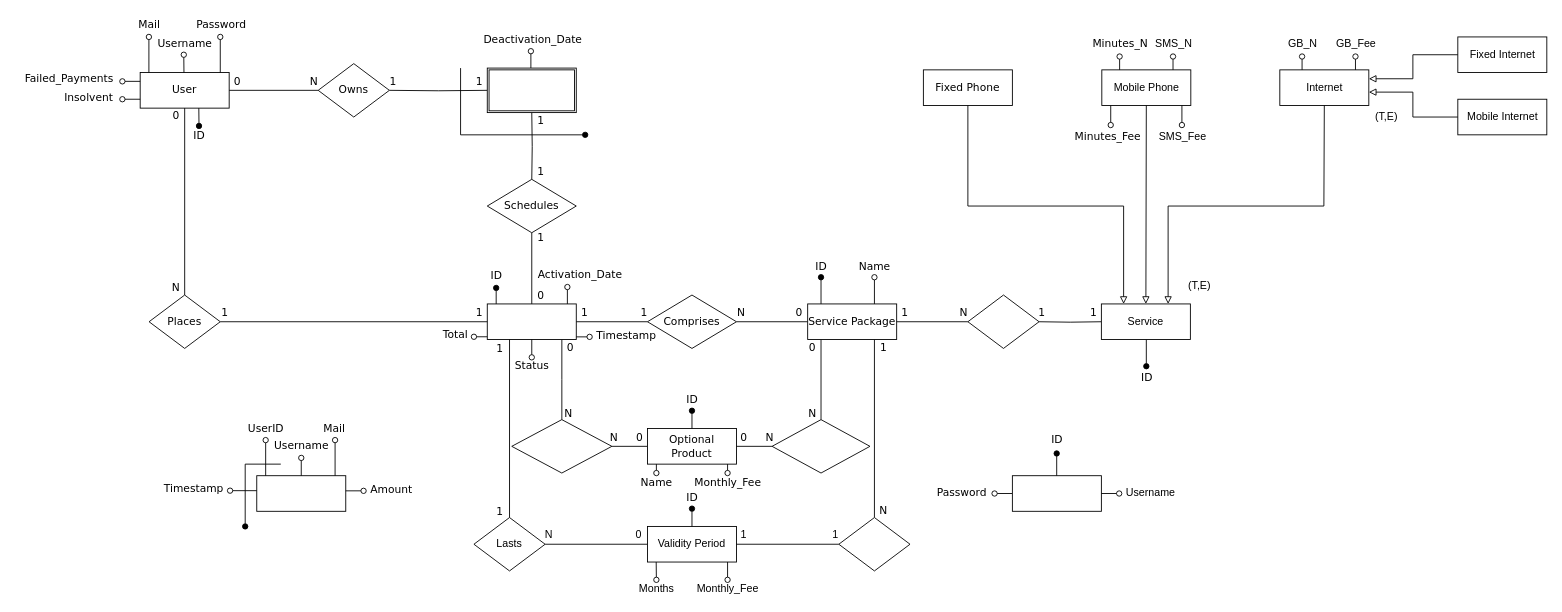
This 1562x612 diagram has some shape labels left out. The shapes that lost their labels are listed below. From the top down, each one's centre as x and y in pixels, then its label:
At (x=531, y=90): "Service Activation Schedule".
At (x=531, y=321): "Order".
At (x=1003, y=321): "Includes".
At (x=561, y=446): "Comprehends".
At (x=820, y=446): "Offers".
At (x=301, y=493): "Audit".
At (x=1056, y=493): "Employee".
At (x=874, y=544): "Provides".
